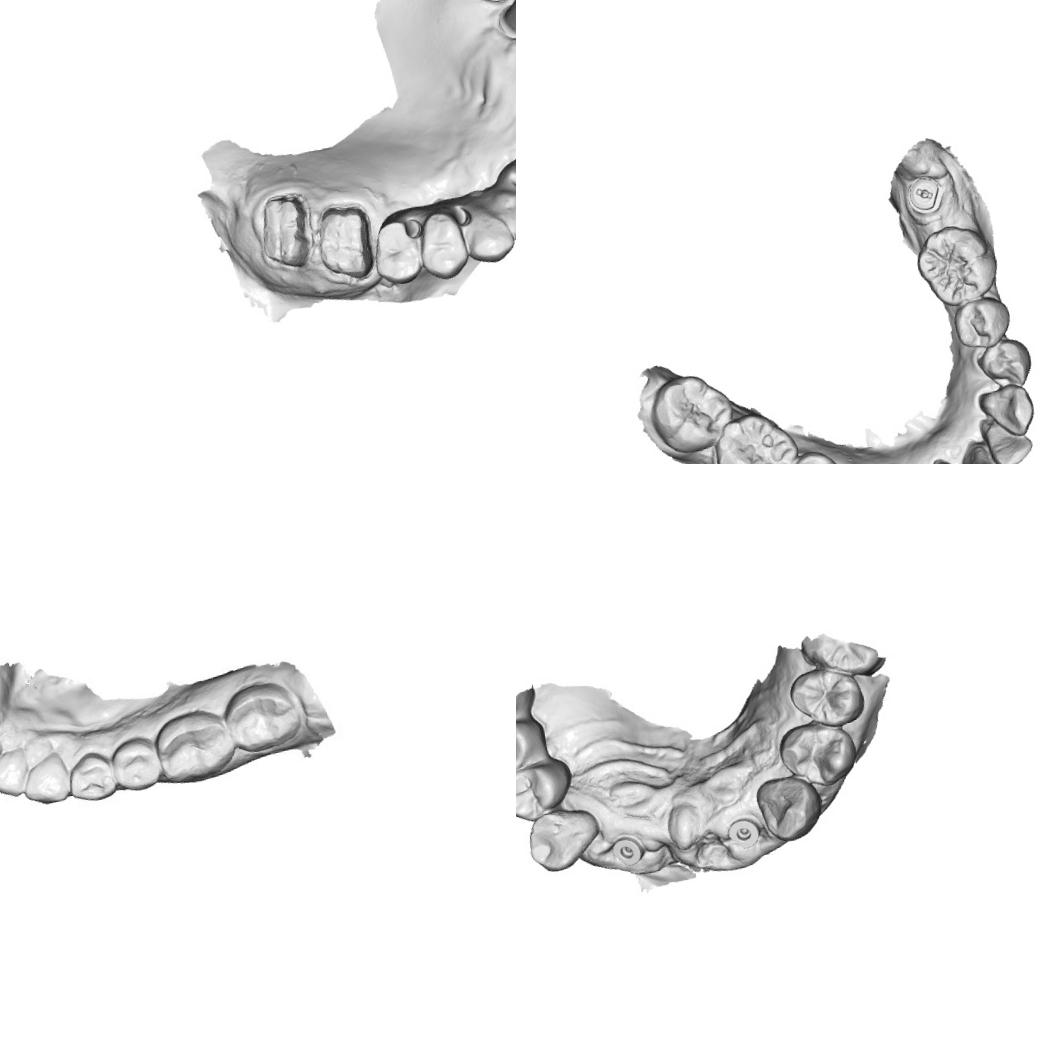abutment: (493, 0, 516, 42)
canine: (522, 802, 606, 876), (751, 771, 826, 846), (455, 200, 516, 268), (973, 380, 1039, 441), (17, 751, 79, 808)
crown: (311, 197, 381, 284), (253, 188, 318, 274)
implant: (608, 832, 647, 870), (724, 814, 763, 852)
implant_minus: (903, 170, 948, 222)
incisor: (984, 422, 1037, 464), (0, 750, 27, 795), (497, 183, 516, 245), (965, 443, 1021, 464)
molar: (910, 218, 1003, 312), (650, 368, 737, 458), (220, 677, 310, 756), (150, 708, 234, 788), (706, 405, 801, 464), (799, 628, 882, 682)
premolar: (773, 716, 863, 793), (784, 662, 870, 733), (413, 206, 470, 285), (516, 754, 578, 826), (367, 214, 426, 289), (951, 291, 1014, 352), (105, 732, 166, 794), (974, 335, 1038, 392), (65, 749, 117, 809), (516, 714, 551, 779), (782, 446, 848, 464)
